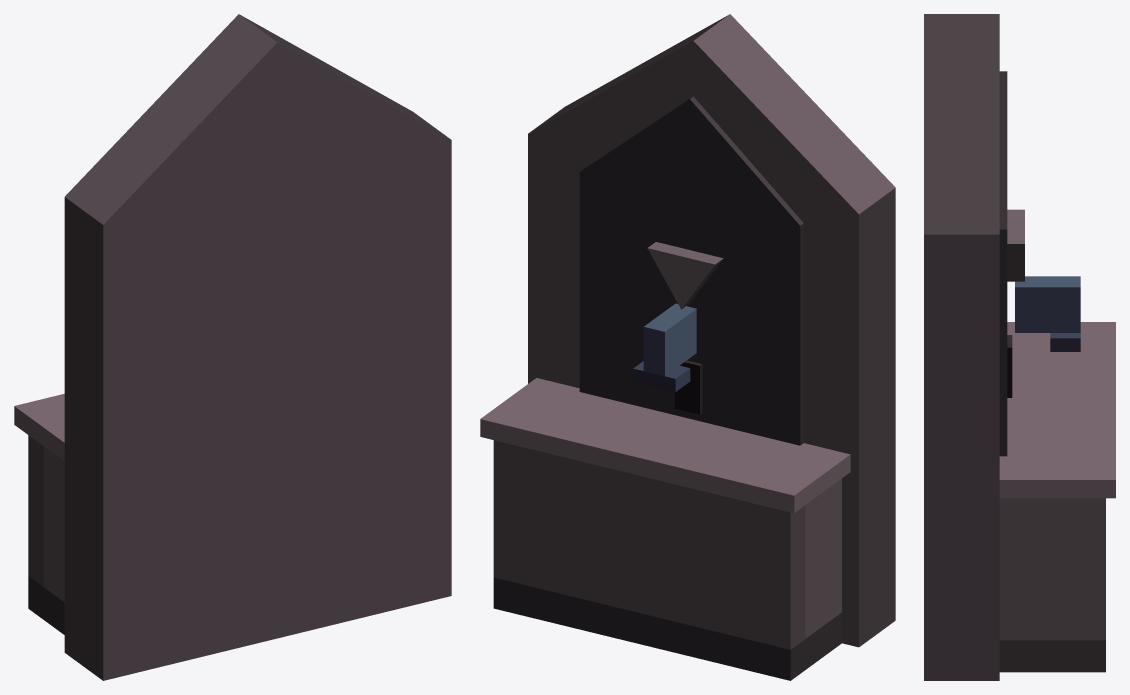
File: brunnen_b_verbraucht.glb
3 renders of one model, left to right at view 1: azimuth 30°, elevation 25°; view 2: azimuth 150°, elevation 25°; view 3: azimuth 270°, elevation 25°, orthographic. The views are drawn at different scales.
Parts seen in each view (by area): view 1: brunnen; view 2: brunnen; view 3: brunnen.
Boxes of the visible parts, box(x1,y1,x2,y2) form: brunnen: box(14, 14, 451, 680); brunnen: box(480, 14, 895, 680); brunnen: box(924, 14, 1115, 680).
Bounding box in the file's own units: 1.56 × 2.55 × 0.76.
